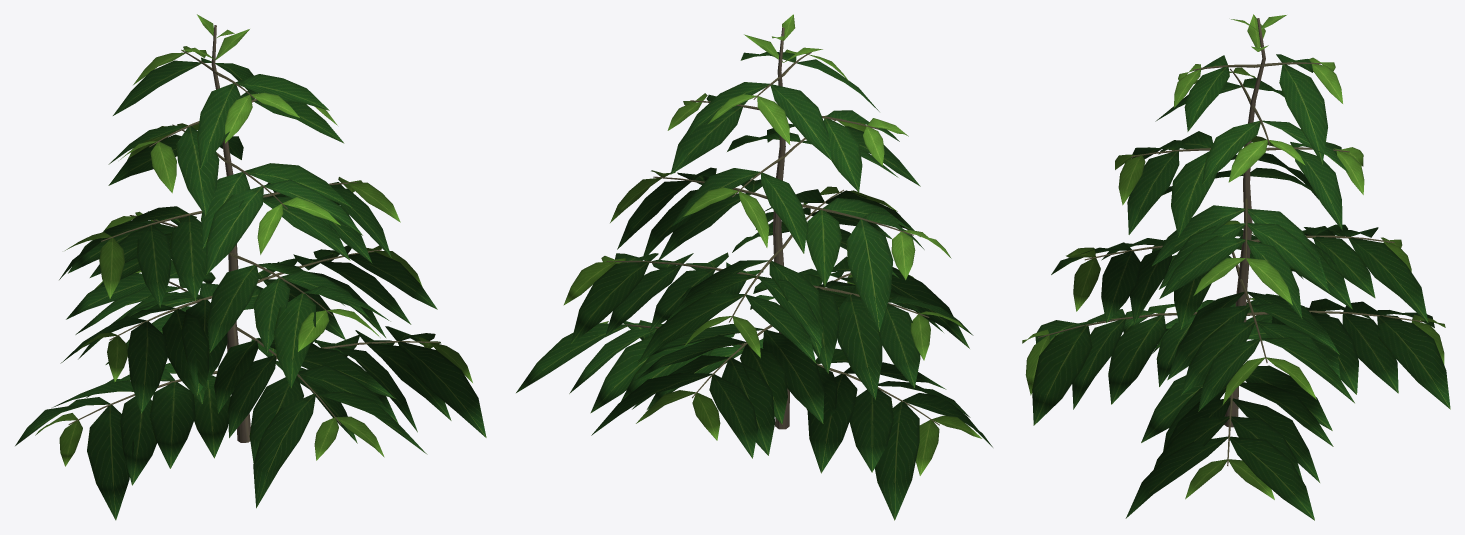
Rendered from coffea-robusta-young-lod0.glb.
3 views of the same model, side by side, from view 1: azimuth 30°, elevation 25°; view 2: azimuth 150°, elevation 25°; view 3: azimuth 270°, elevation 25° (orthographic). The views are drawn at different scales.
Parts seen in each view (by area): view 1: coffee_leaves, coffee_bark; view 2: coffee_leaves, coffee_bark; view 3: coffee_leaves, coffee_bark.
Part boxes in pixels (x1,y1,x2,y2): coffee_leaves: (15,14,486,520); coffee_bark: (68,25,439,442); coffee_leaves: (516,14,992,520); coffee_bark: (606,27,939,429); coffee_leaves: (1022,14,1450,520); coffee_bark: (1038,18,1422,465).
Size of the model in its own units: 0.9955 by 0.9743 by 0.9202.
Materials: 2 (2 with a texture image).
